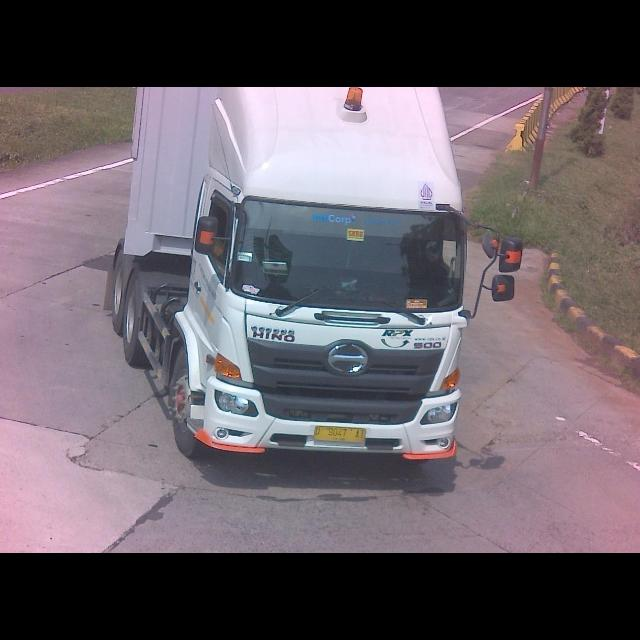plate: (313, 423, 371, 445)
